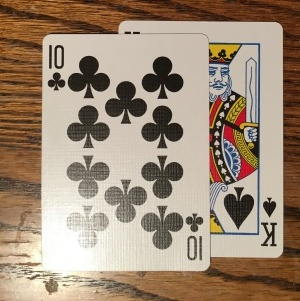card: (41, 31, 211, 270), (201, 16, 282, 253)
